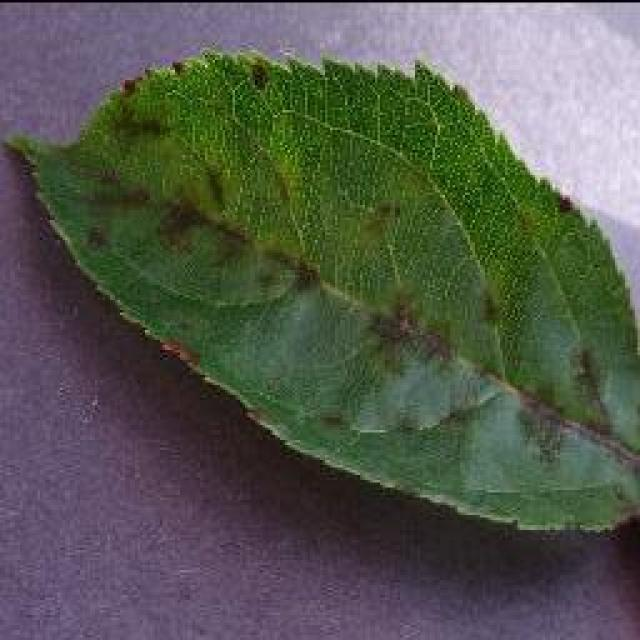apple scab disease: (2, 42, 638, 540)
